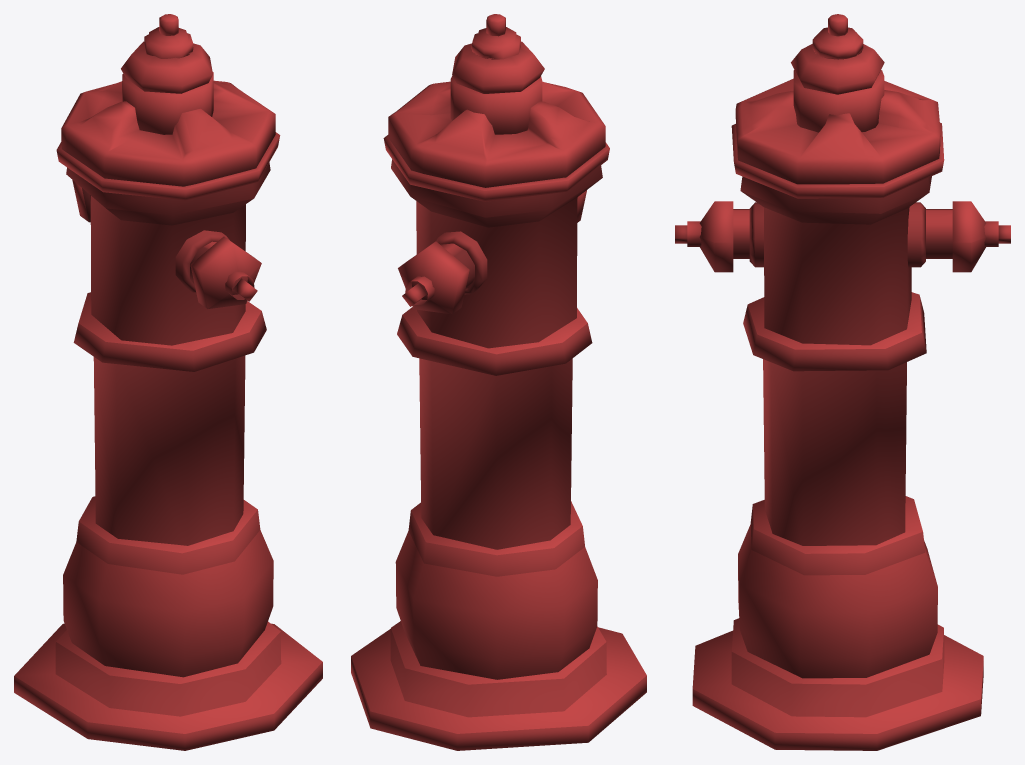
The picture shows the model from 3 angles, left to right: view 1: azimuth 30°, elevation 25°; view 2: azimuth 150°, elevation 25°; view 3: azimuth 270°, elevation 25°; orthographic projection.
Visible parts, largest first — view 1: FireHydrant; view 2: FireHydrant; view 3: FireHydrant.
Part boxes in pixels (x1,y1,x2,y2): FireHydrant: [14, 14, 322, 750]; FireHydrant: [351, 14, 646, 750]; FireHydrant: [675, 14, 1010, 750].
Size of the model in its own units: 0.1943 by 0.5 by 0.2262.
